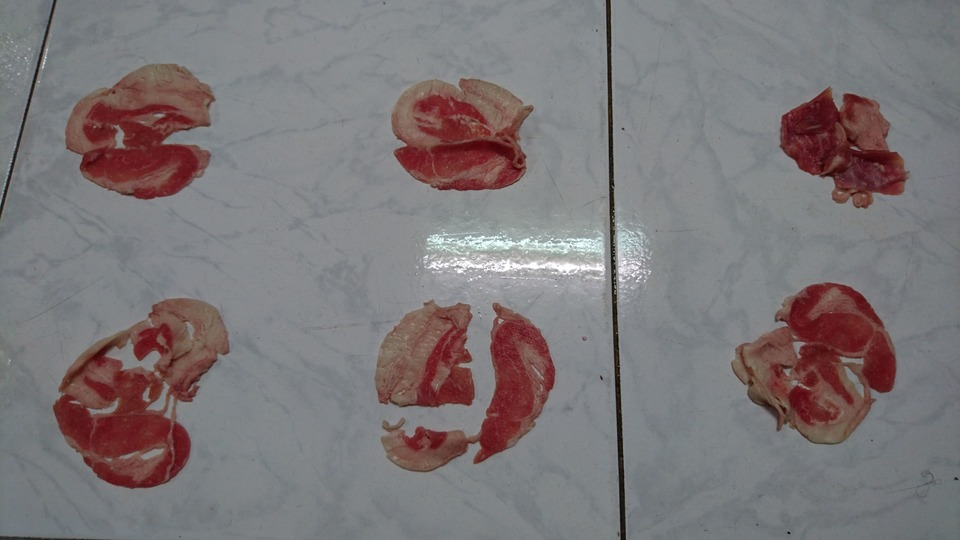restructured meat: (47, 294, 231, 494), (371, 297, 555, 474), (737, 282, 898, 447), (65, 63, 215, 204), (387, 68, 537, 209), (765, 82, 915, 223)
